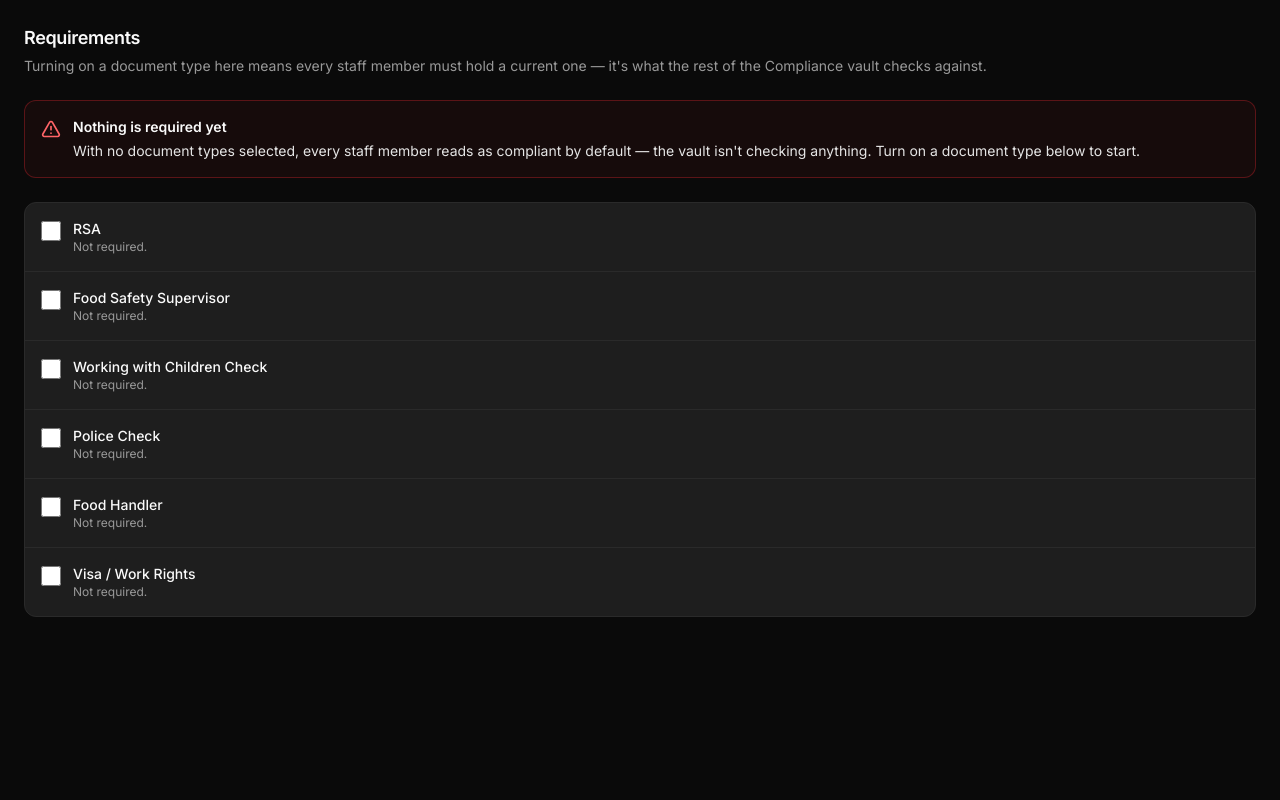
Scenario: RequiredDocumentsTab › shows a plain-language error and leaves the selection unchanged when saving fails
Click the checkbox labelled "RSA". click: (51,231)
box: top-left (41, 221), bottom-right (61, 241)
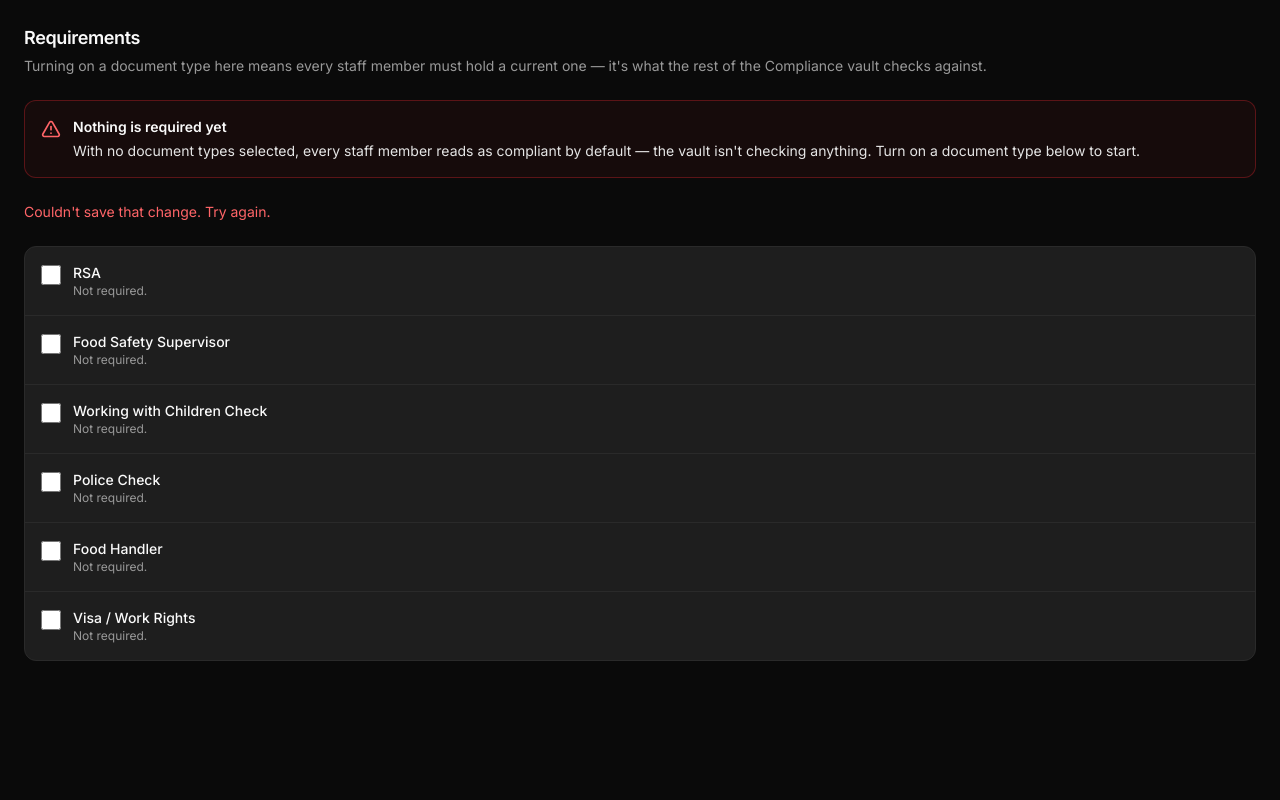
Expected: the checkbox labelled "RSA" is not checked, top-left (41, 265), bottom-right (61, 285)
Expected: the text "Couldn't save that change. Try again." is shown, top-left (24, 203), bottom-right (270, 220)
